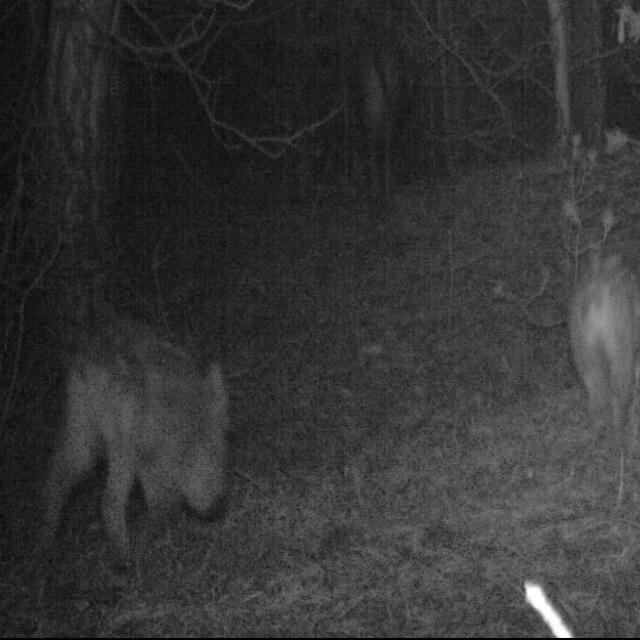pig: (13, 118, 278, 624), (509, 149, 640, 476)
